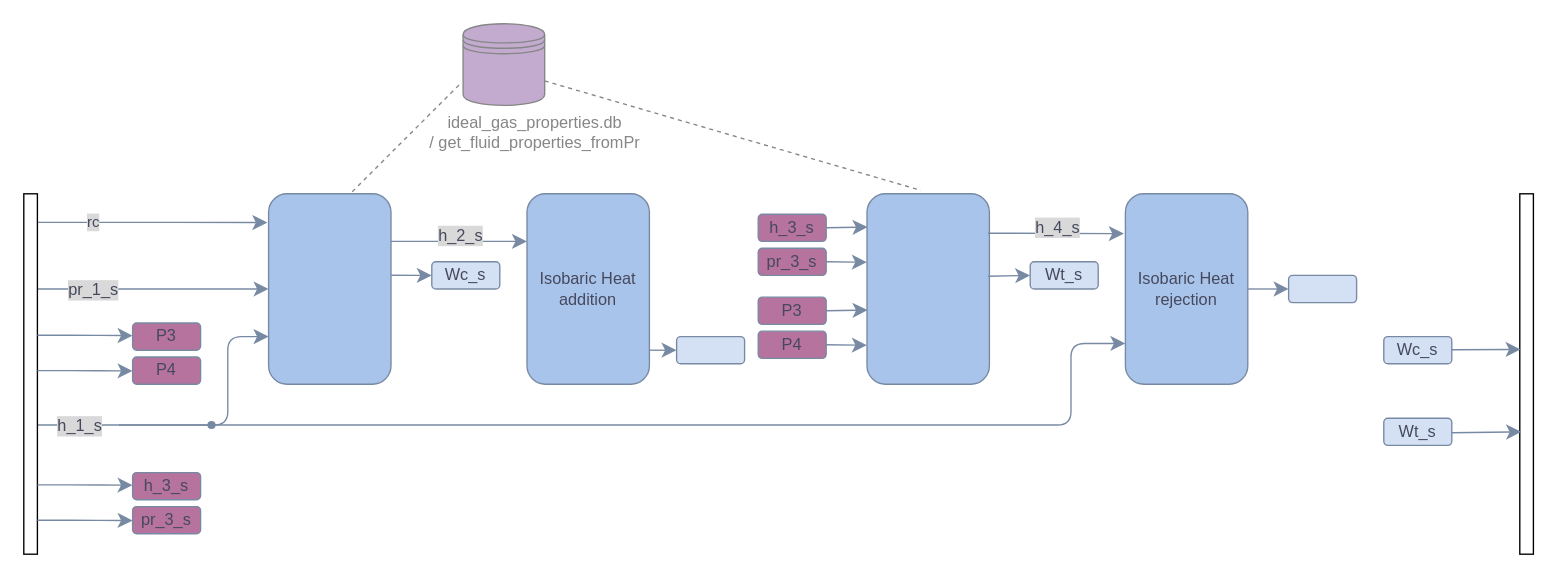
The diagram is 1557 pixels wide and 578 high, and some of its shapes have lost their labels. Here are the shapes that lost their labels. From the top down, the box of each, then its label:
(267, 192, 391, 384): Isentropic Compression
(866, 192, 989, 384): Isentropic Expansion
(1287, 274, 1357, 303): Qout_s
(675, 335, 745, 364): Qin_s
